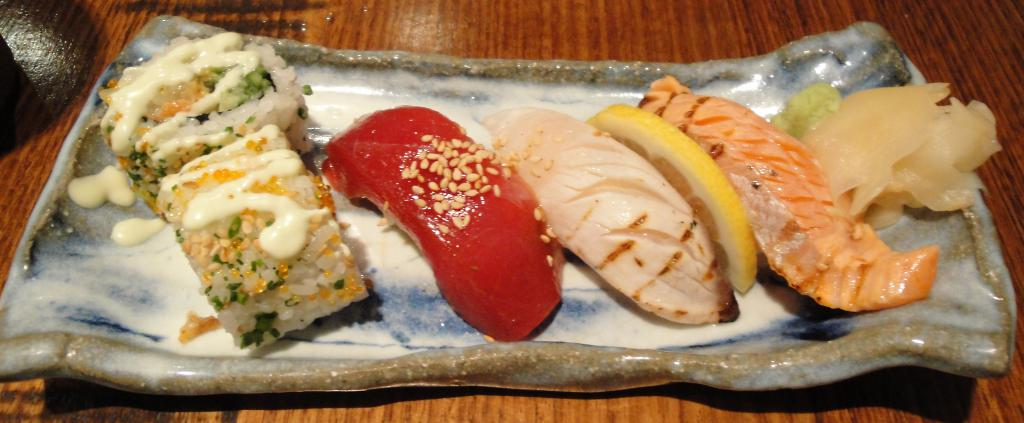sushi: (325, 108, 559, 340), (102, 31, 316, 210), (147, 156, 354, 340)
